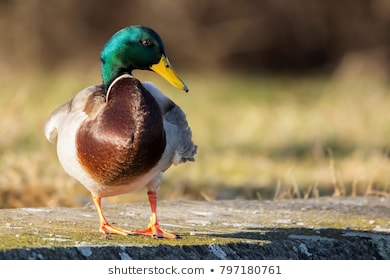duck: (26, 23, 220, 245)
